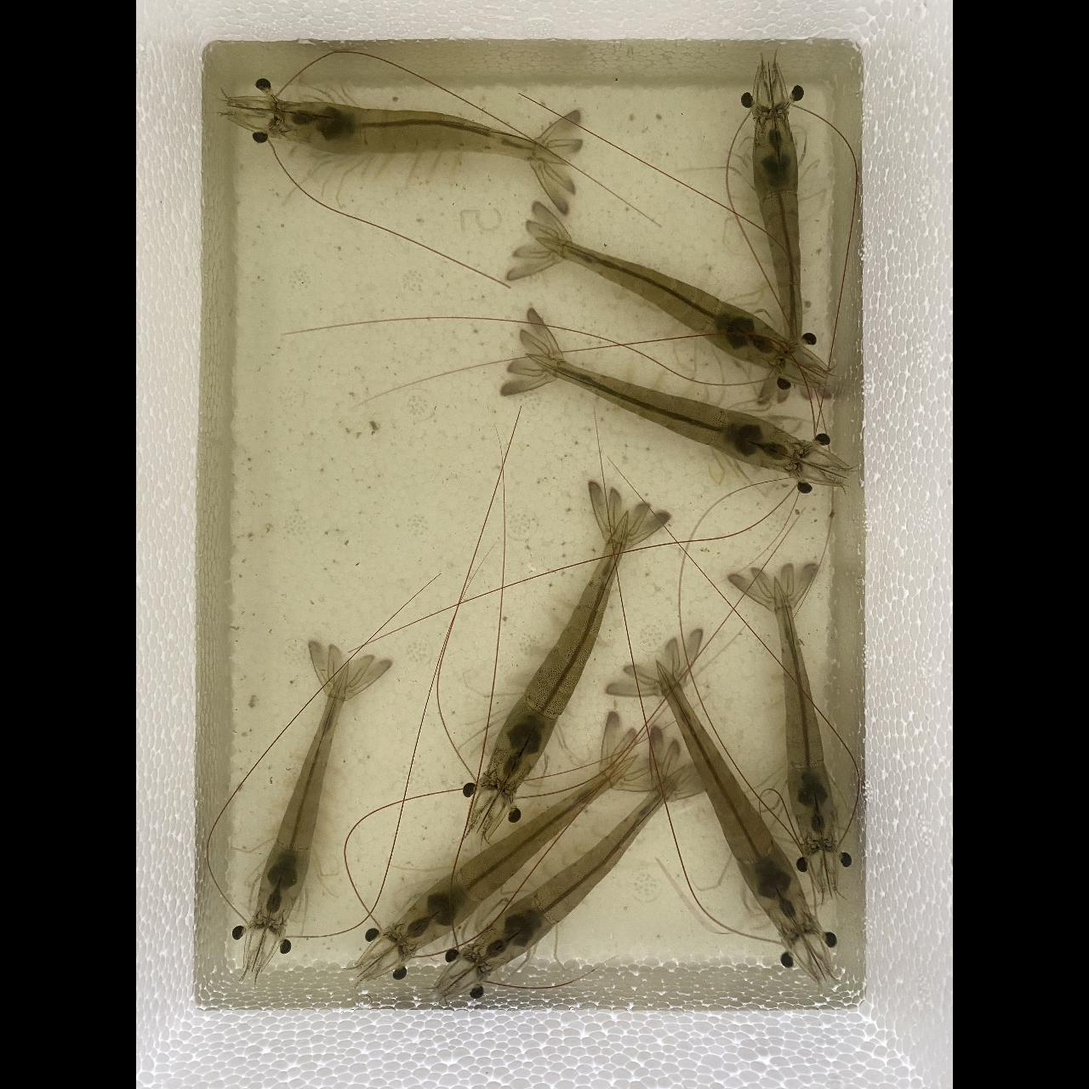top_shrimp: (397, 755, 637, 952), (660, 669, 808, 934), (488, 519, 626, 790), (476, 781, 667, 972), (550, 233, 788, 366), (531, 356, 800, 470), (257, 662, 345, 924), (277, 102, 563, 160), (774, 584, 835, 846), (752, 111, 800, 351)
